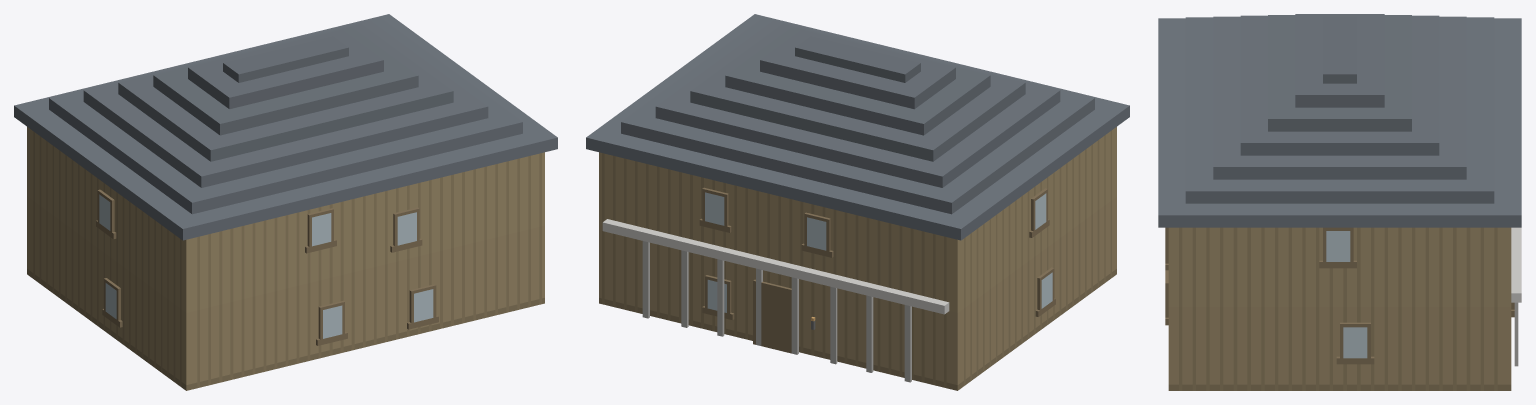
File: teatro_04.glb
3 renders of one model, left to right at view 1: azimuth 30°, elevation 25°; view 2: azimuth 150°, elevation 25°; view 3: azimuth 270°, elevation 25°, orthographic. The views are drawn at different scales.
Visible parts, largest first — view 1: teatro_04; view 2: teatro_04; view 3: teatro_04.
Part boxes in pixels (x1,y1,x2,y2): teatro_04: [14, 14, 557, 390]; teatro_04: [586, 14, 1129, 390]; teatro_04: [1158, 14, 1521, 390].
Size of the model in its own units: 13.6 by 8.1 by 10.6.
